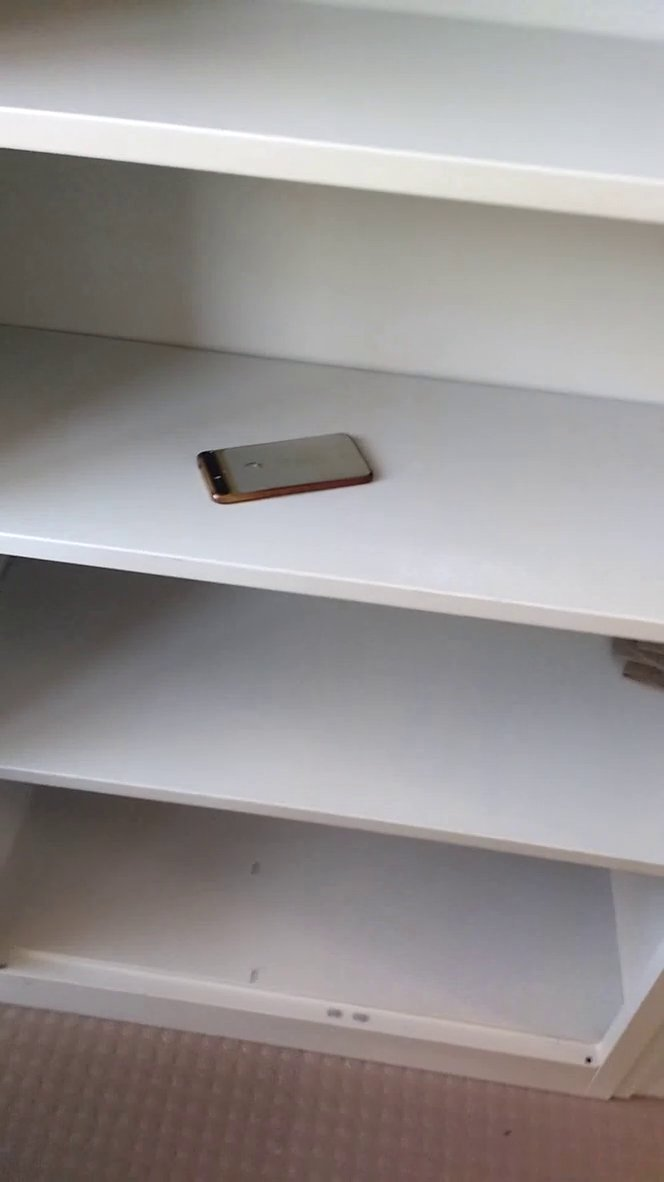phone: (190, 420, 380, 522)
